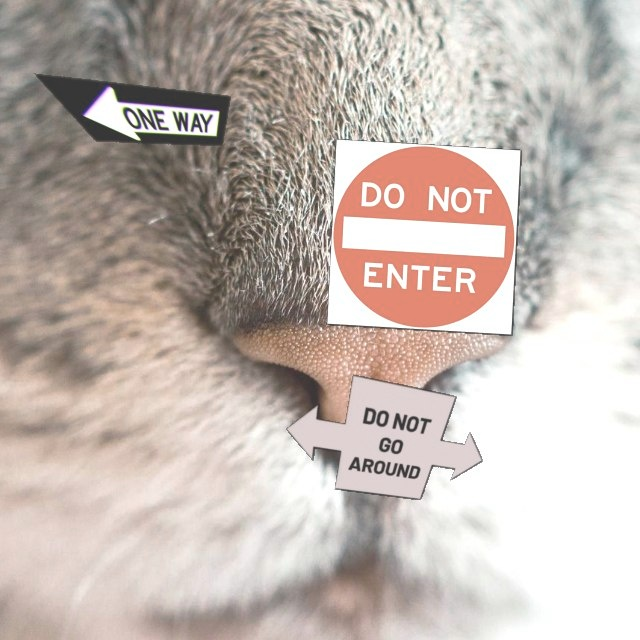DO_NOT_ENTER: (326, 138, 522, 336)
DO_NOT_GO_AROUND: (285, 374, 483, 500)
ONE_WAY_ left: (33, 73, 231, 146)
